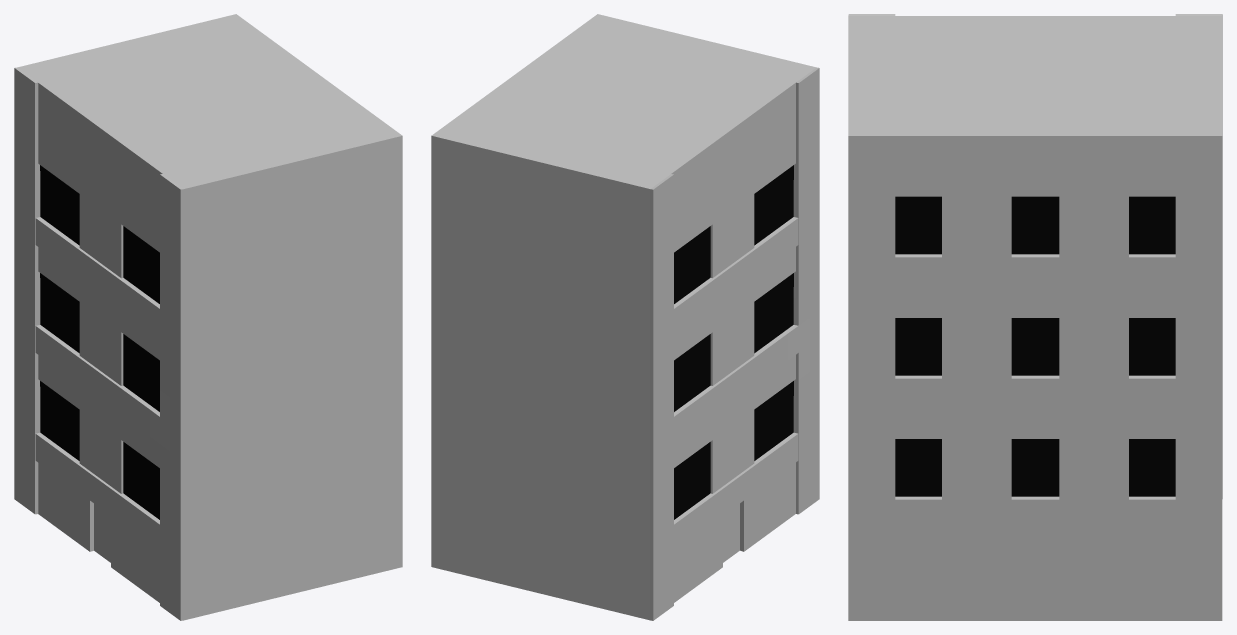
The model's file is _uilding2.fbx.
3 renders of one model, left to right at view 1: azimuth 30°, elevation 25°; view 2: azimuth 150°, elevation 25°; view 3: azimuth 270°, elevation 25°, orthographic. The views are drawn at different scales.
Visible parts, largest first — view 1: BrickBuilding2; view 2: BrickBuilding2; view 3: BrickBuilding2.
Boxes of the visible parts, <box> form: BrickBuilding2: <box>14,14,402,620</box>; BrickBuilding2: <box>431,14,819,620</box>; BrickBuilding2: <box>848,14,1222,620</box>.
Bounding box in the file's own units: 1267 × 2355 × 1645.
